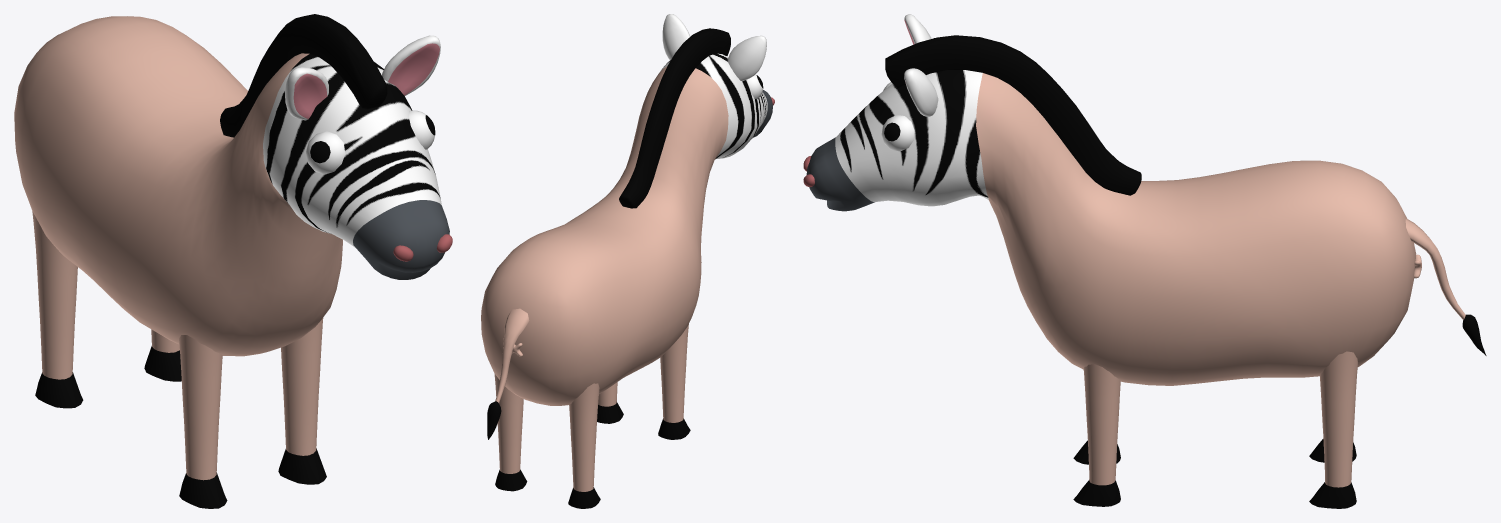
Rendered from Zebra_naked.fbx.
3 renders of one model, left to right at view 1: azimuth 30°, elevation 25°; view 2: azimuth 150°, elevation 25°; view 3: azimuth 270°, elevation 25°, orthographic. The views are drawn at different scales.
Parts seen in each view (by area): view 1: Zebra_naked; view 2: Zebra_naked; view 3: Zebra_naked.
Boxes of the visible parts, x1,y1,x2,y2 form: Zebra_naked: [14, 14, 452, 508]; Zebra_naked: [481, 14, 774, 508]; Zebra_naked: [803, 14, 1486, 508].
Size of the model in its own units: 161 by 398 by 557.
